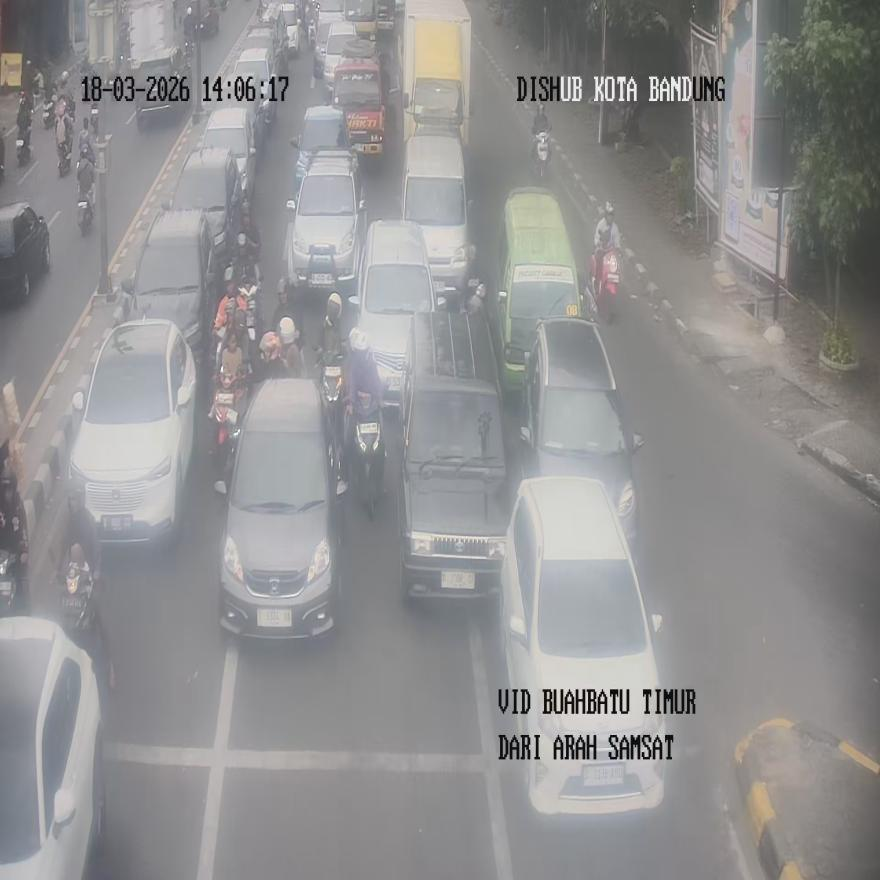Mobil: (500, 478, 666, 816), (216, 378, 344, 639), (398, 306, 508, 598), (66, 316, 197, 548), (0, 617, 106, 878), (518, 317, 642, 537), (495, 186, 583, 399), (346, 218, 435, 413), (122, 202, 218, 363), (401, 134, 475, 299), (285, 147, 366, 295), (166, 145, 242, 278), (0, 202, 50, 300)
Truk ringan: (400, 1, 470, 149)
